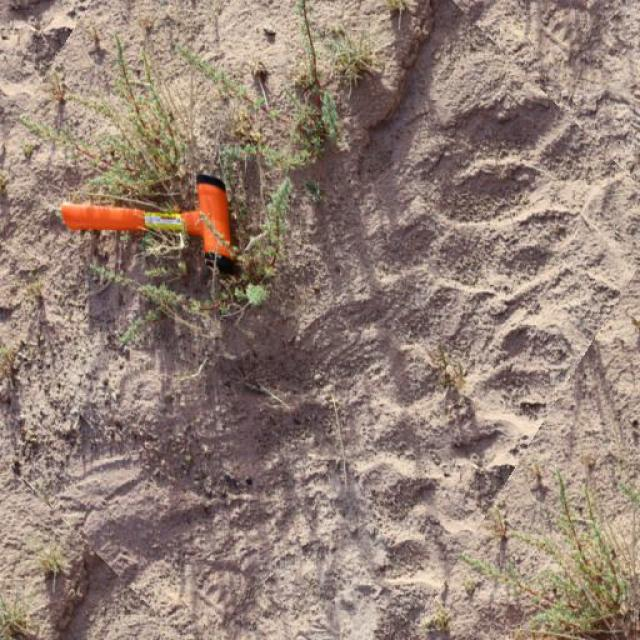mallet: (60, 171, 241, 275)
